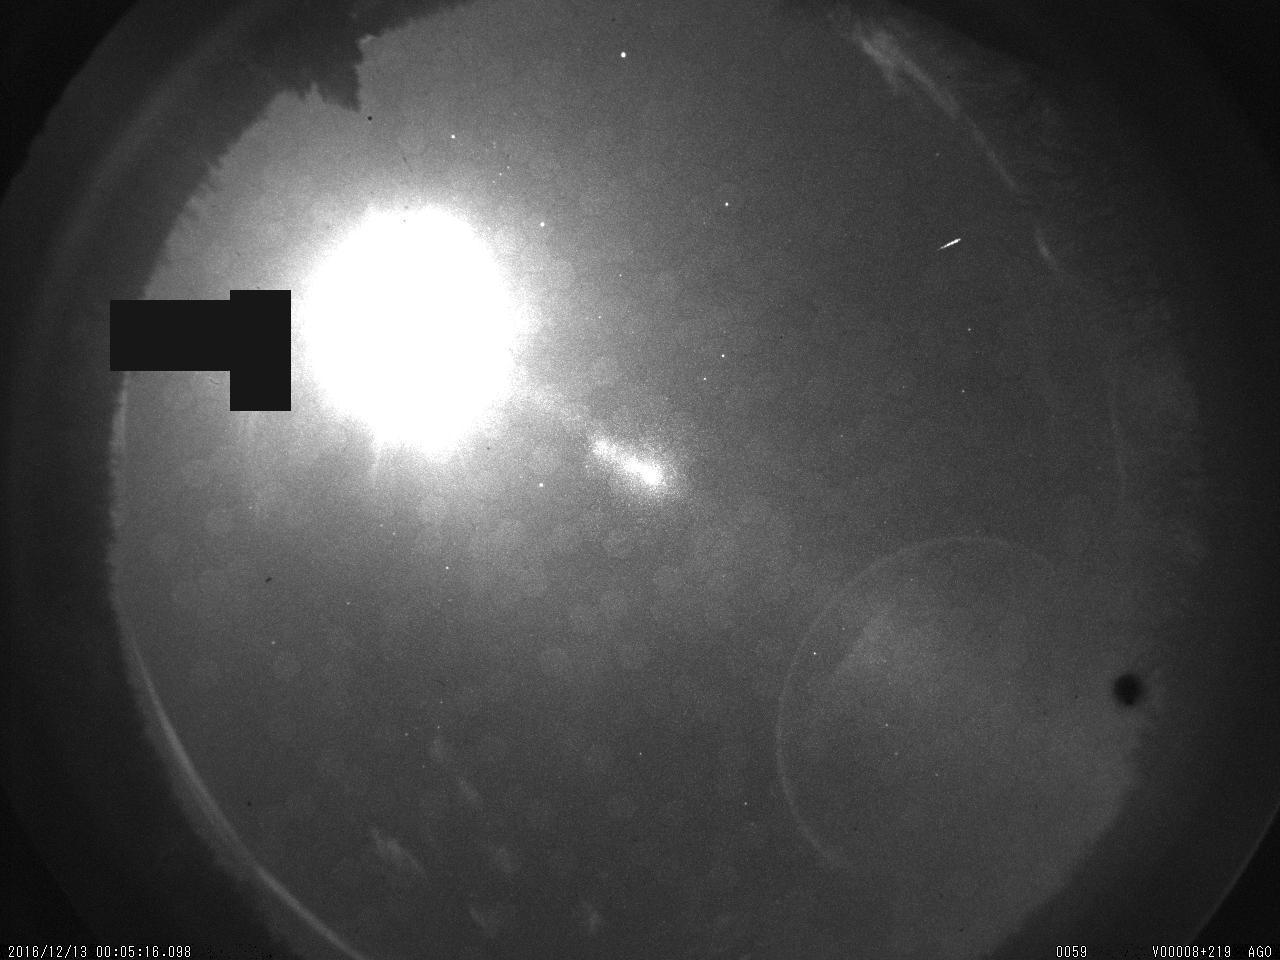Meteor: (928, 229, 968, 260)
